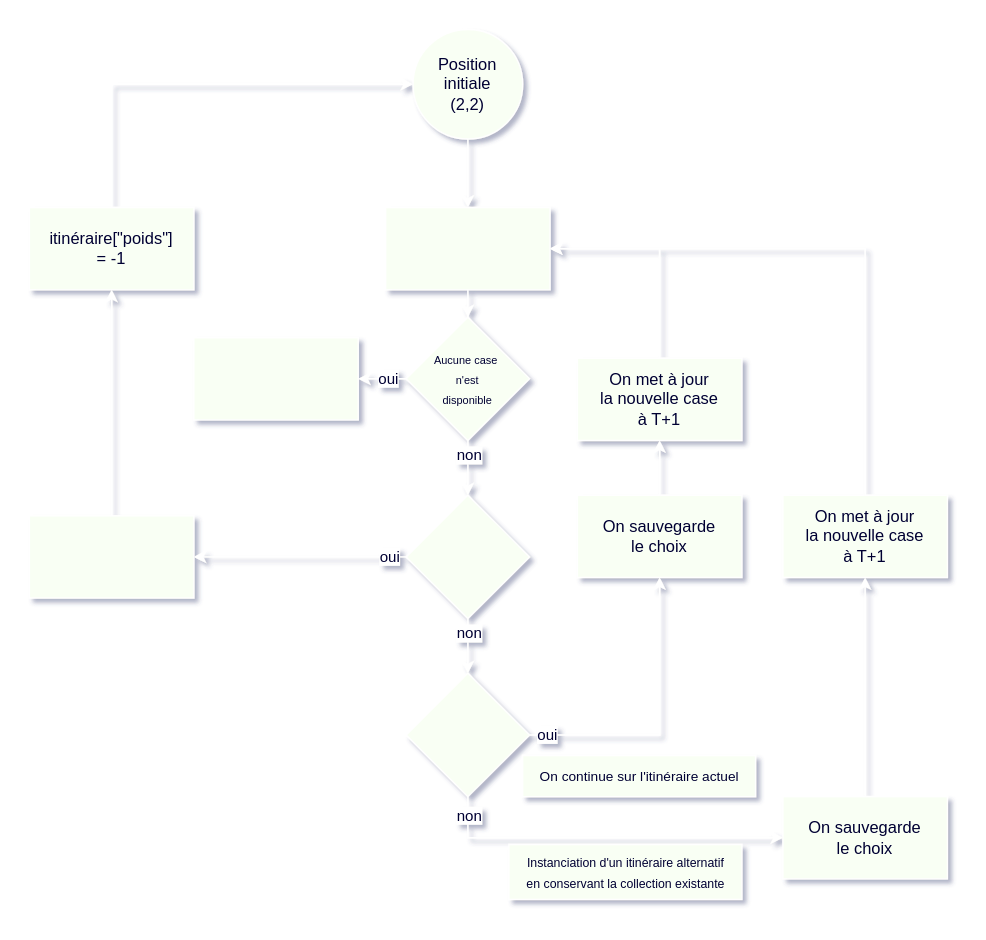
The diagram is 986 pixels wide and 940 high, and some of its shapes have lost their labels. Here are the shapes that lost their labels. From the top down, the centre of each, then its label:
pixel 467 248: On collecte une des cases adjacentes
pixel 275 378: On enregistre la collection d'itinéraires Et on choisi le poids le plus bas
pixel 111 556: On enregistre l'itinéraire
pixel 467 556: La case contient une bombe
pixel 467 734: La case contient un point
